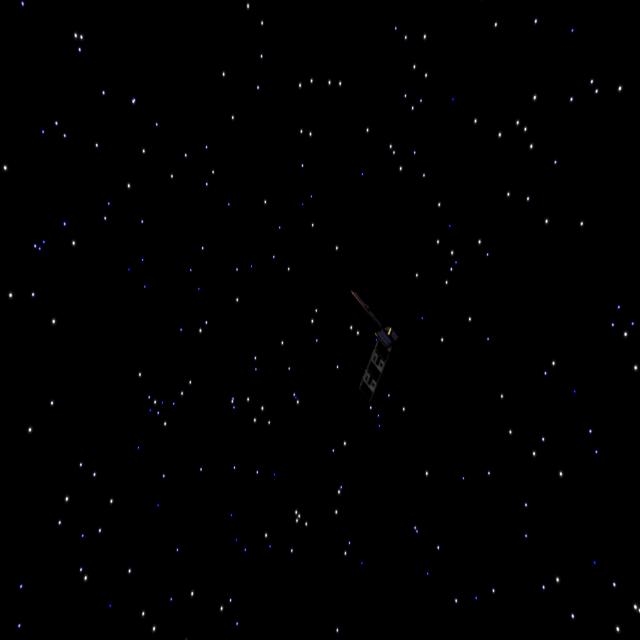medium_debris: (336, 267, 404, 407)
